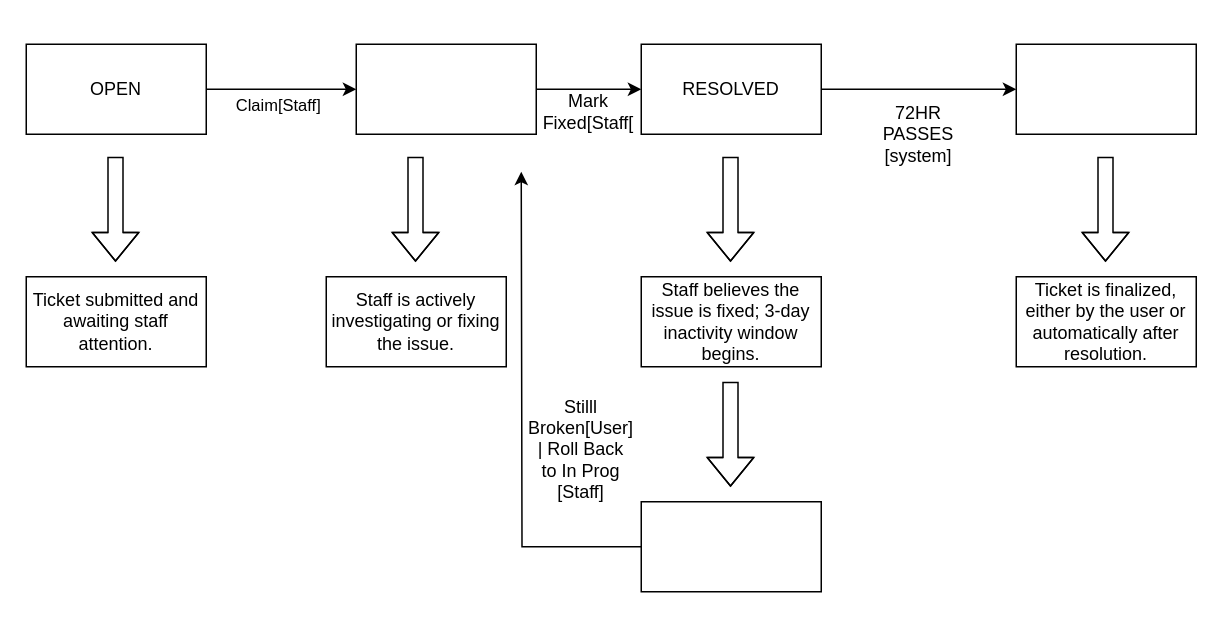
The diagram is 1223 pixels wide and 618 high, and some of its shapes have lost their labels. Here are the shapes that lost their labels. From the top down, the box of each, then its label:
(355, 43, 536, 134): IN PROGRESS
(1015, 43, 1196, 134): CLOSED
(640, 500, 821, 592): If issue persists before 3 day window end, roll back to in progress
